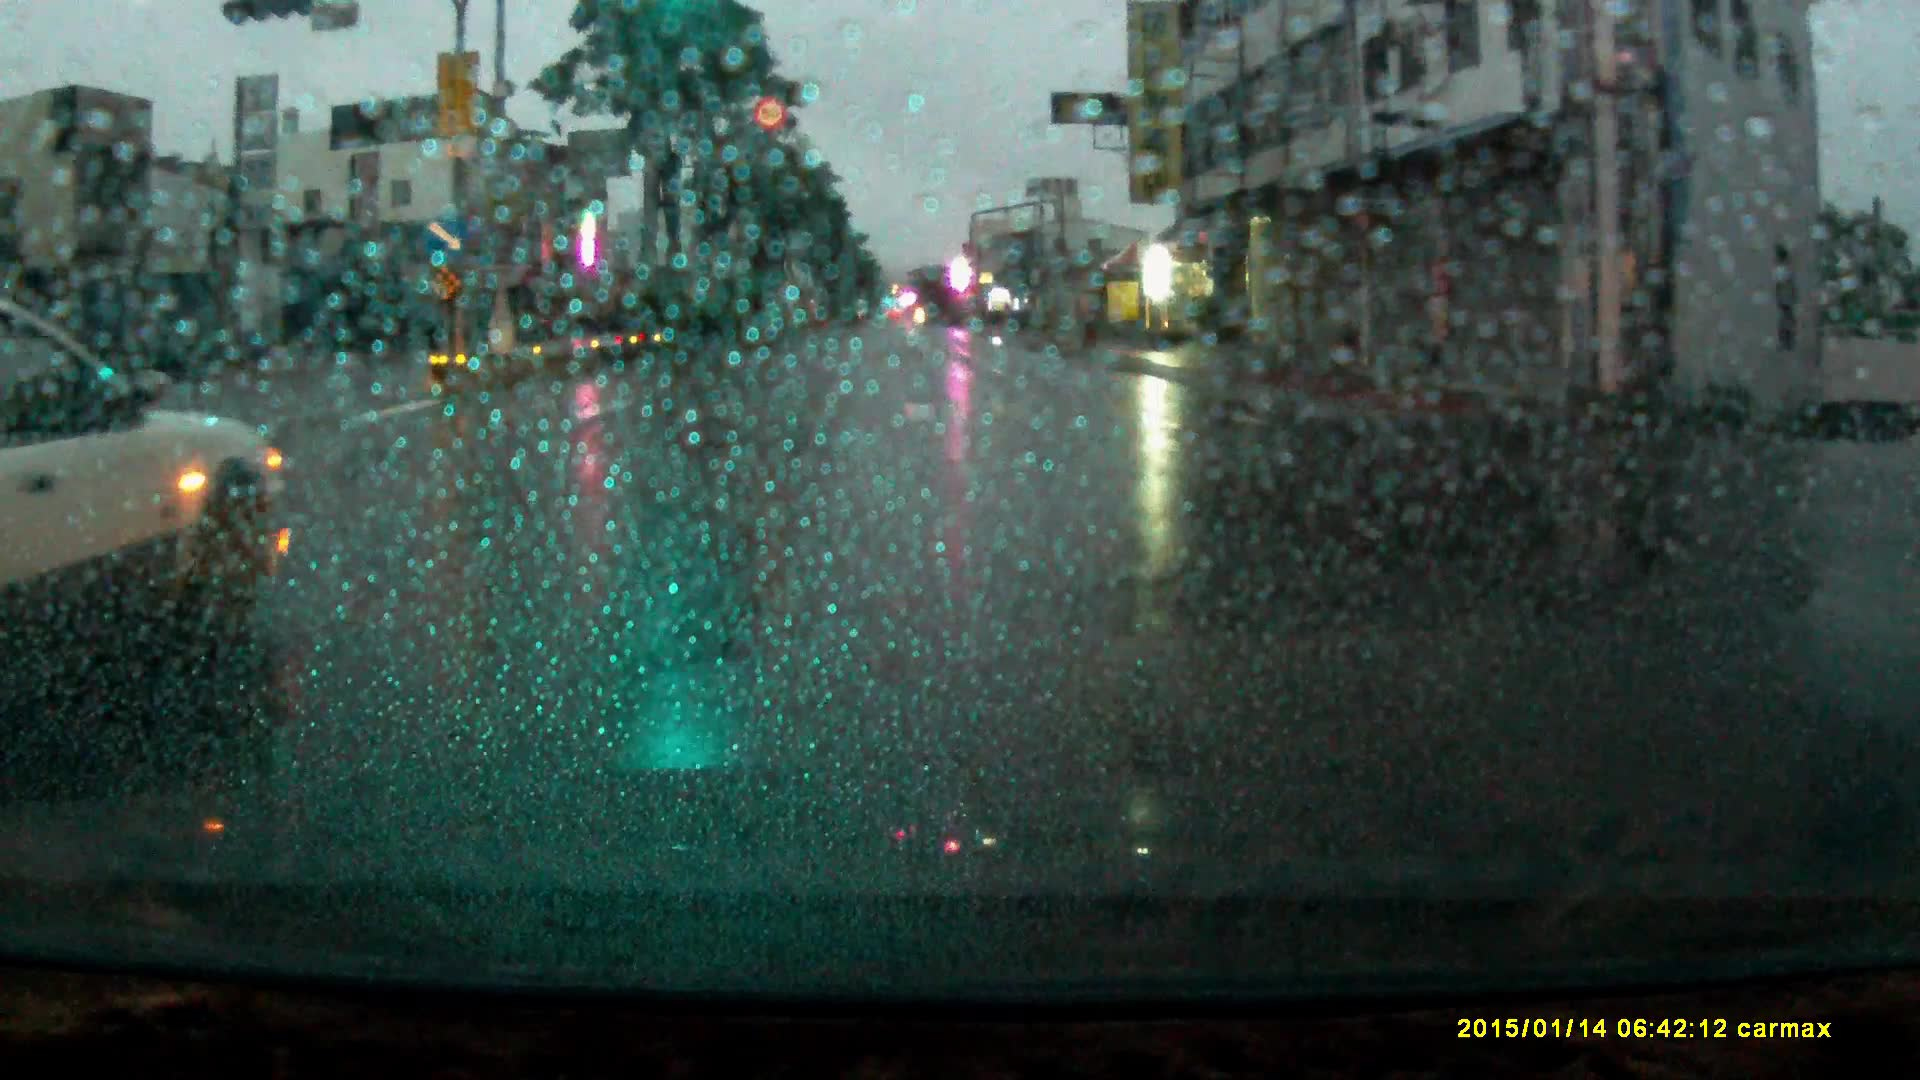vehicle: (1, 303, 291, 676)
